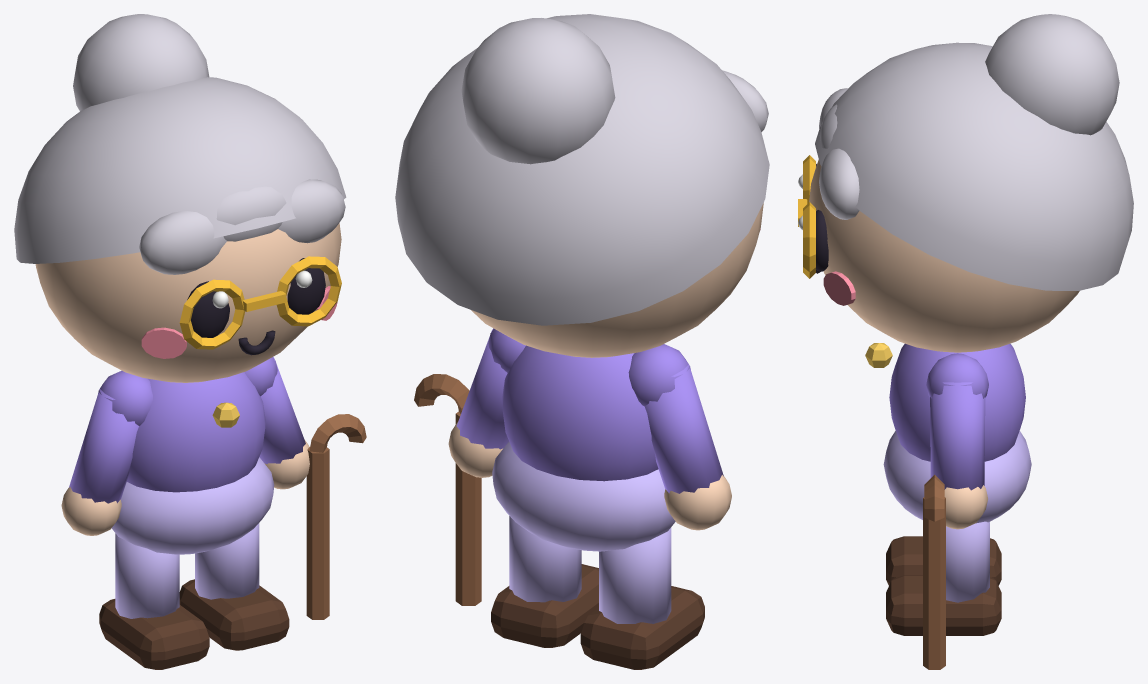
The model's file is char_patient_granny.glb.
3 renders of one model, left to right at view 1: azimuth 30°, elevation 25°; view 2: azimuth 150°, elevation 25°; view 3: azimuth 270°, elevation 25°, orthographic. The views are drawn at different scales.
Parts seen in each view (by area): view 1: head, char_patient_granny; view 2: head, char_patient_granny; view 3: head, char_patient_granny.
Part boxes in pixels (x1=…): head: x1=14, y1=14, x2=346, y2=382; char_patient_granny: x1=61, y1=357, x2=366, y2=669; head: x1=395, y1=14, x2=769, y2=357; char_patient_granny: x1=414, y1=328, x2=731, y2=669; head: x1=798, y1=14, x2=1133, y2=352; char_patient_granny: x1=865, y1=343, x2=1031, y2=669.
Size of the model in its own units: 0.7892 by 1.4 by 0.7259.
